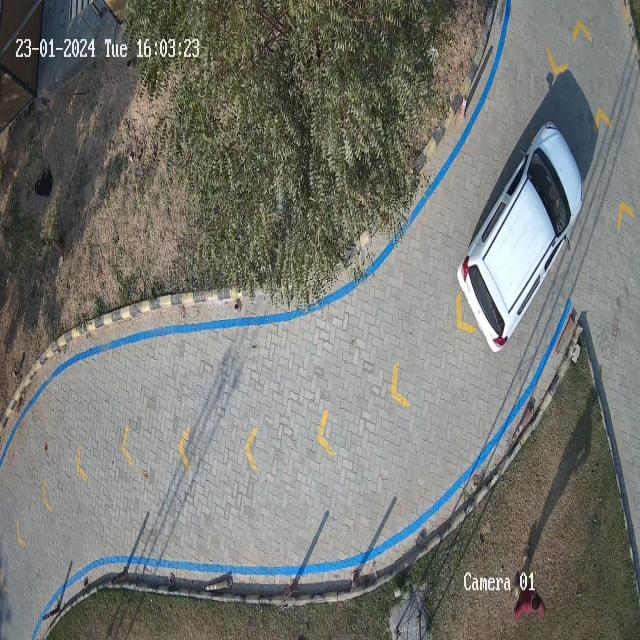car: (458, 122, 582, 351)
